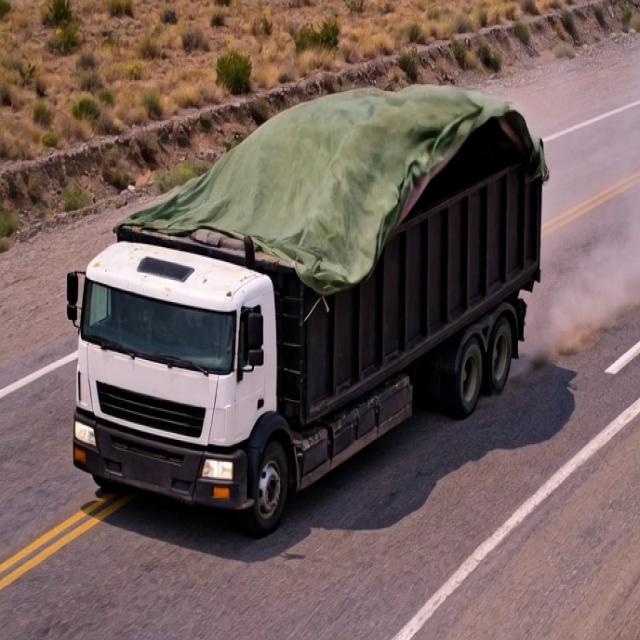trailer: (116, 70, 554, 257)
truck: (59, 53, 563, 517)
